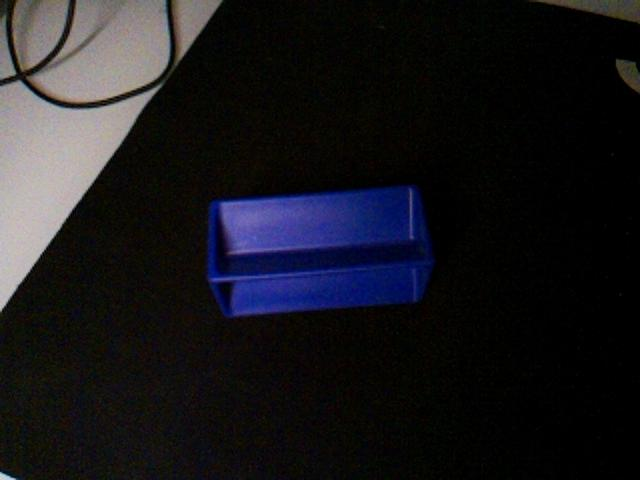blue: (205, 183, 437, 319)
